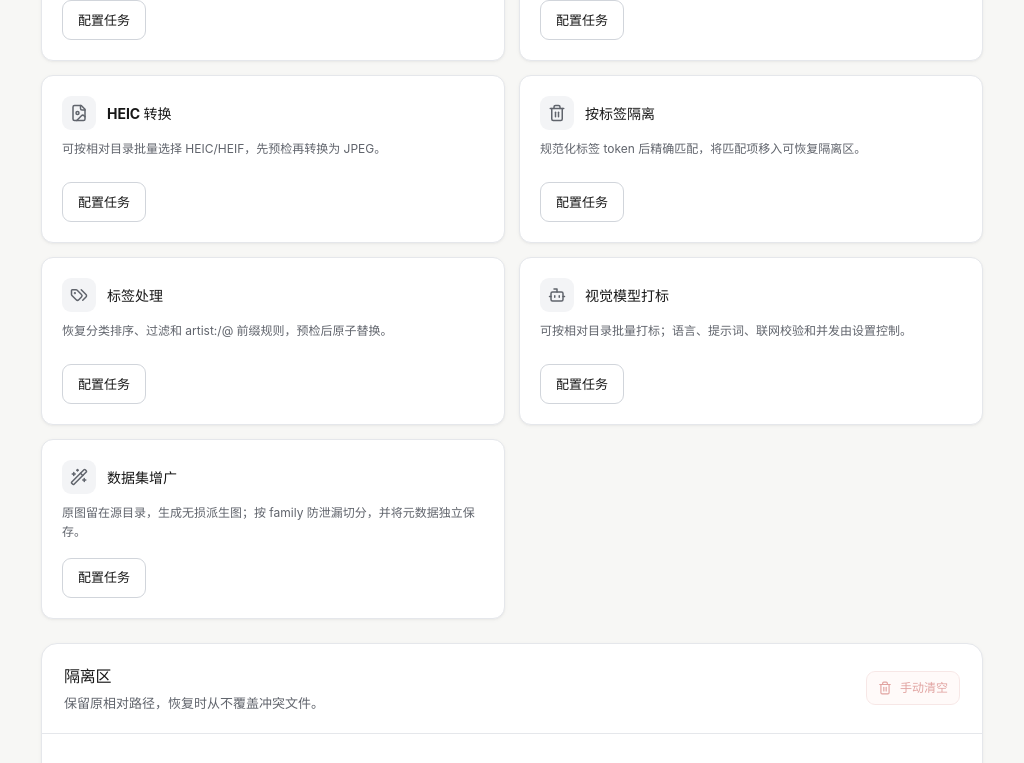
Test: ToolsView media selection boundary › opens directory configuration for vLLM without creating an ID-less task
This screenshot has width=1024, height=763.
(page scrolled)
Click the button "配置任务" below "可按相对目录批量打标；语言、提示词、联网校验和并发由设置控制。" at coordinates (582, 384), box [540,364,624,404]
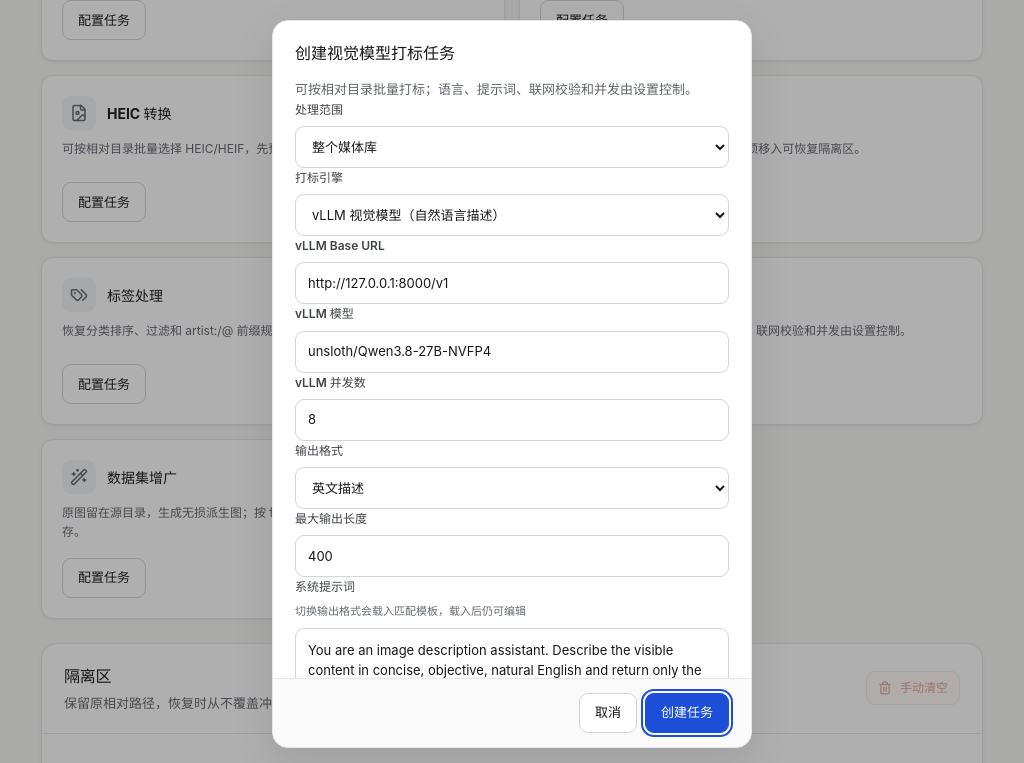
Now the dialog is shown, box [272,20,752,748]
